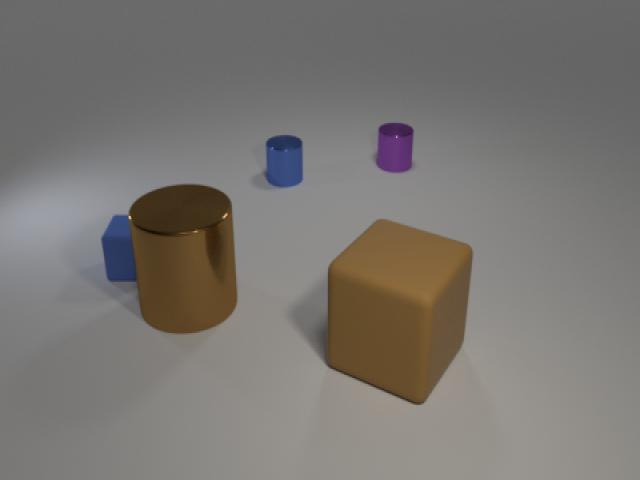cylinder: (126, 177, 246, 339), (258, 129, 310, 195), (373, 113, 419, 178)
